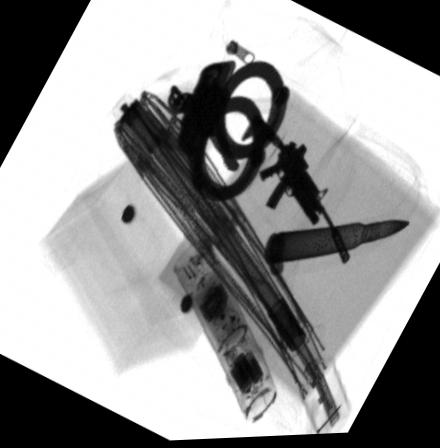Baton: (173, 237, 278, 420)
Bullet: (262, 222, 411, 267)
Gun: (241, 119, 352, 268)
HandCuffs: (167, 61, 290, 205)
